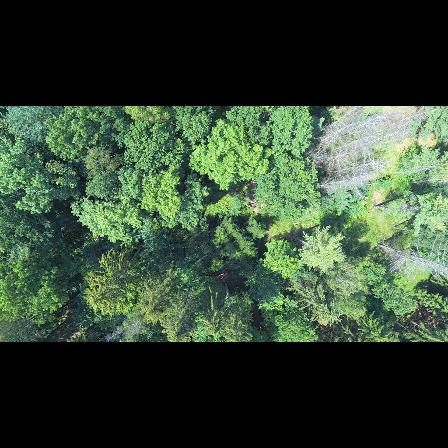Dead: (378, 242, 448, 278), (317, 170, 372, 193), (324, 132, 378, 153), (316, 119, 355, 143), (385, 110, 436, 128), (322, 106, 362, 128), (338, 158, 388, 173), (325, 150, 353, 163)
